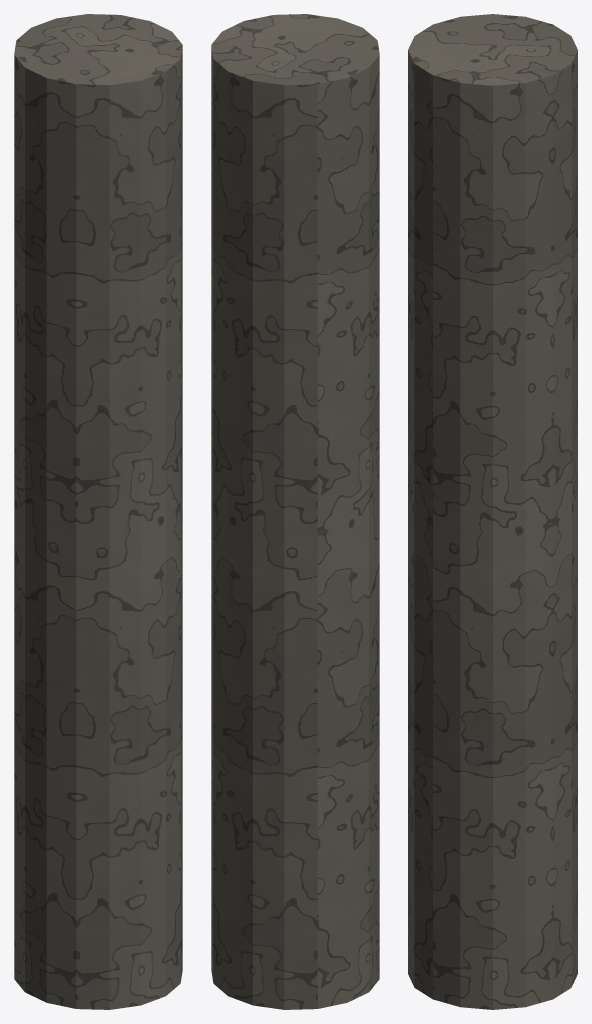
The model's file is column_round_0p5x3m.glb.
3 renders of one model, left to right at view 1: azimuth 30°, elevation 25°; view 2: azimuth 150°, elevation 25°; view 3: azimuth 270°, elevation 25°, orthographic.
Parts seen in each view (by area): view 1: column_round_0p5x3m; view 2: column_round_0p5x3m; view 3: column_round_0p5x3m.
Part boxes in pixels (x1=…): column_round_0p5x3m: x1=14, y1=14, x2=182, y2=1009; column_round_0p5x3m: x1=211, y1=14, x2=379, y2=1009; column_round_0p5x3m: x1=408, y1=14, x2=577, y2=1009.
Bounding box in the file's own units: 0.5 × 3 × 0.5.
Materials: 1 (1 with a texture image).
